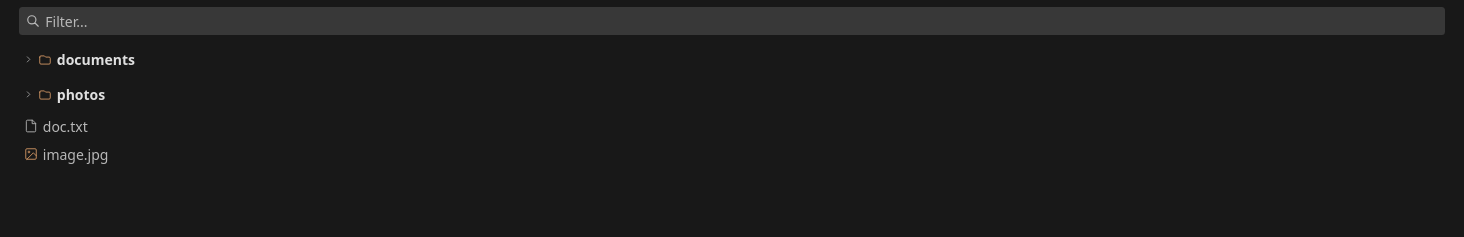
Test: FileTree › expands directory on click and loads children
Check: the text "photos" is shown, box [57,84,105,105]
Check: the text "sunset.jpg" is not shown
# Click to expand
Click the button "photos" at (81, 94), box [12,77,1452,112]
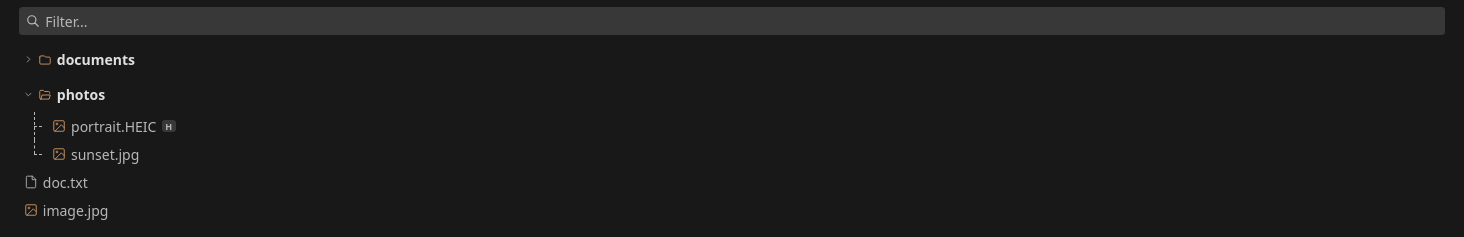
Check: the text "sunset.jpg" is shown, box [71,144,139,164]
Check: the text "portrait.HEIC" is shown, box [71,116,156,136]
